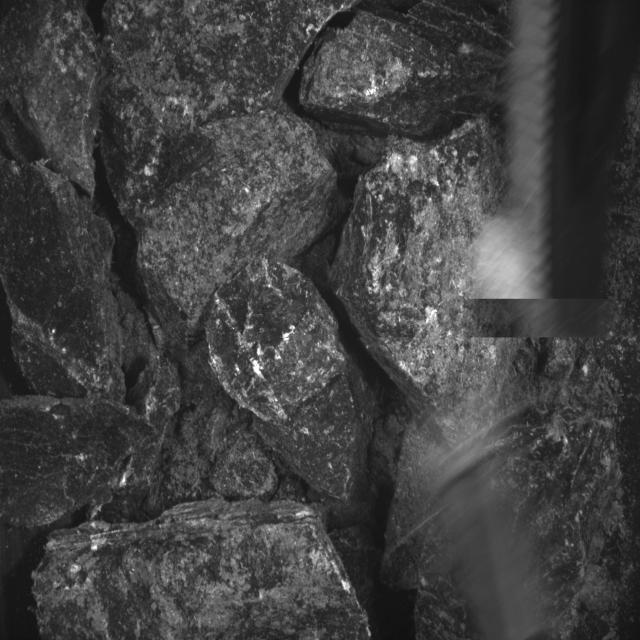Stones: (101, 1, 352, 344), (331, 118, 506, 409), (35, 501, 371, 640), (207, 260, 370, 501), (1, 154, 126, 403), (301, 1, 510, 139), (1, 397, 159, 528), (1, 1, 100, 196), (129, 354, 182, 441)
